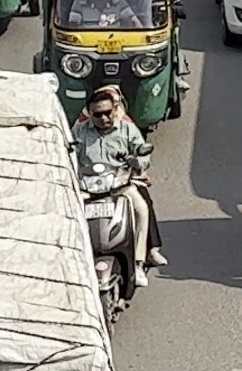BikeWithRider: (63, 77, 172, 343)
NoHelmet: (80, 87, 124, 135)
